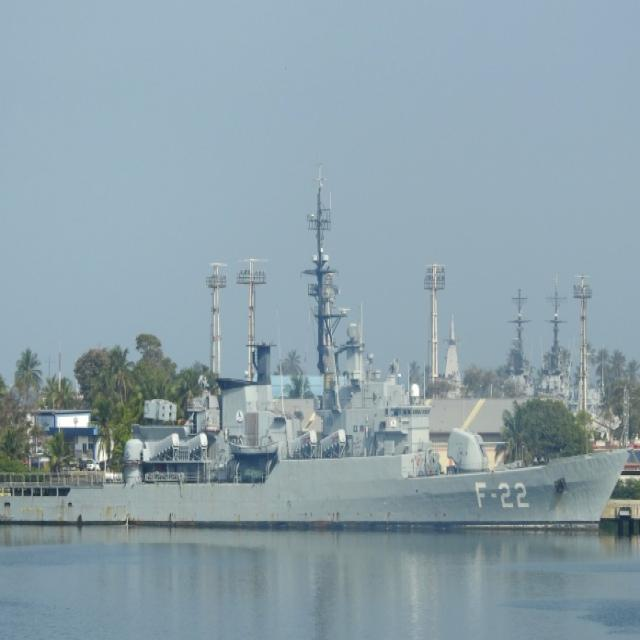Fragata: (1, 307, 632, 540)
